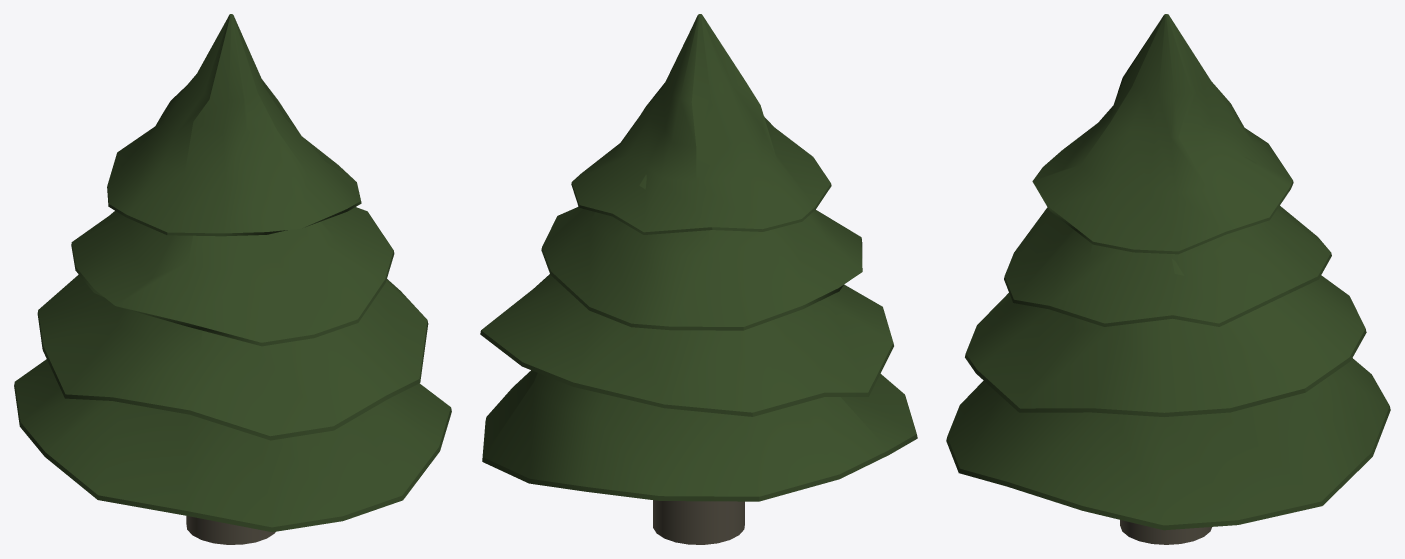
File: tree!.fbx
The picture shows the model from 3 angles, left to right: view 1: azimuth 30°, elevation 25°; view 2: azimuth 150°, elevation 25°; view 3: azimuth 270°, elevation 25°; orthographic projection.
Parts seen in each view (by area): view 1: pCube1, pCube2, pCube4, pCube3, pCylinder1; view 2: pCube1, pCube2, pCube4, pCube3, pCylinder1; view 3: pCube1, pCube2, pCube4, pCube3, pCylinder1.
Boxes of the visible parts, x1,y1,x2,y2 form: pCube1: [14, 359, 451, 532]; pCube2: [37, 274, 428, 440]; pCube4: [107, 14, 361, 236]; pCube3: [71, 207, 394, 346]; pCylinder1: [186, 516, 275, 544]; pCube1: [482, 370, 917, 501]; pCube2: [480, 274, 893, 416]; pCube4: [571, 14, 831, 234]; pCube3: [541, 206, 862, 330]; pCylinder1: [653, 500, 744, 544]; pCube1: [946, 358, 1390, 530]; pCube2: [965, 275, 1366, 416]; pCube4: [1032, 14, 1293, 254]; pCube3: [1004, 206, 1331, 326]; pCylinder1: [1120, 520, 1211, 544].
Size of the model in its own units: 3.61 by 4.67 by 3.69.
